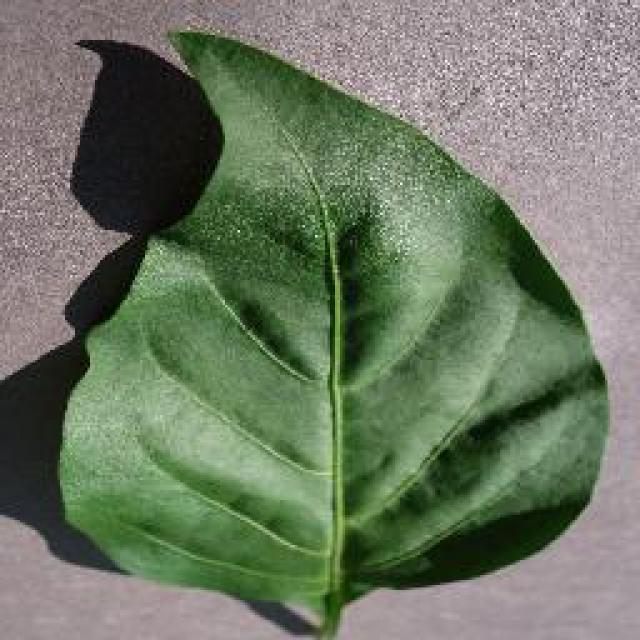Chilli_Healthy: (52, 25, 610, 637)
